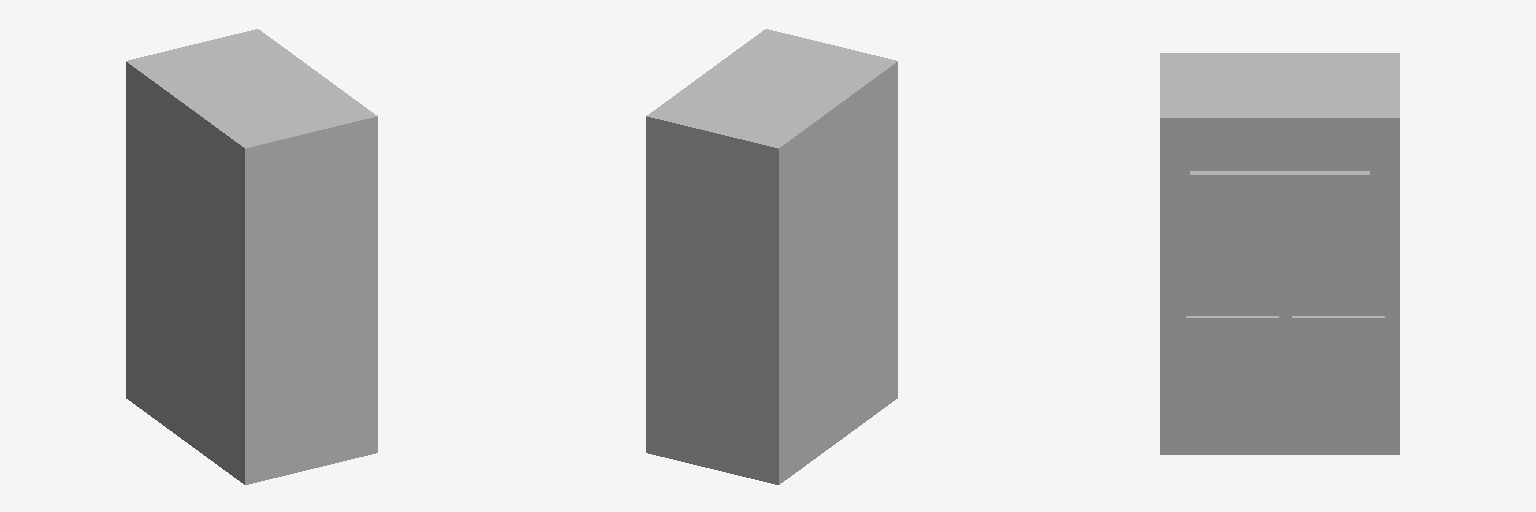
The model's file is body.obj.
3 renders of one model, left to right at view 1: azimuth 30°, elevation 25°; view 2: azimuth 150°, elevation 25°; view 3: azimuth 270°, elevation 25°, orthographic.
Parts seen in each view (by area): view 1: pCube2; view 2: pCube2; view 3: pCube2, pCube17, pCube20, pCube19.
Boxes of the visible parts, <box> form: pCube2: <box>126,29,377,484</box>; pCube2: <box>646,29,897,484</box>; pCube2: <box>1160,53,1399,454</box>; pCube17: <box>1190,171,1369,273</box>; pCube20: <box>1292,316,1384,368</box>; pCube19: <box>1186,316,1278,368</box>.
Size of the model in its own units: 3.38 by 7.7 by 4.95.